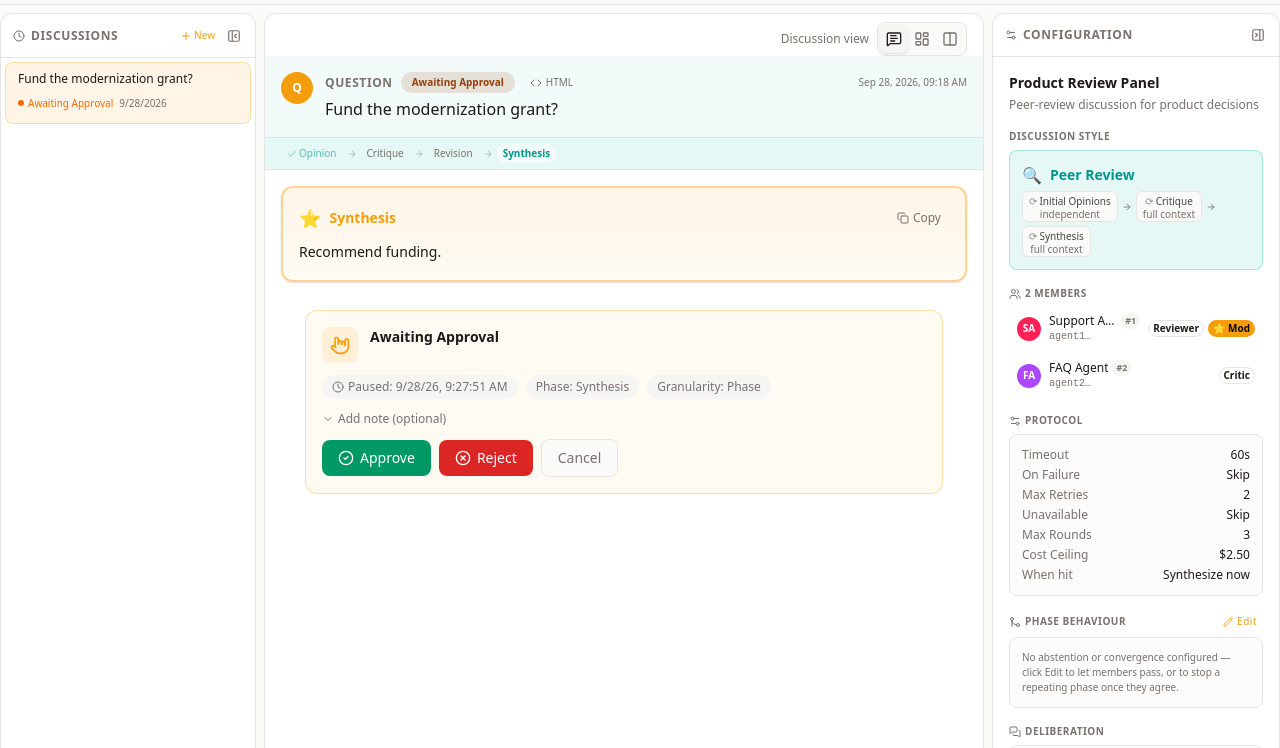
Test: GroupDetailPage — rejecting a paused discussion › lands back on the rejected discussion, with its Close action reachable
Click the button with test id "reject-button" at (486,458), box [439,440,533,476]
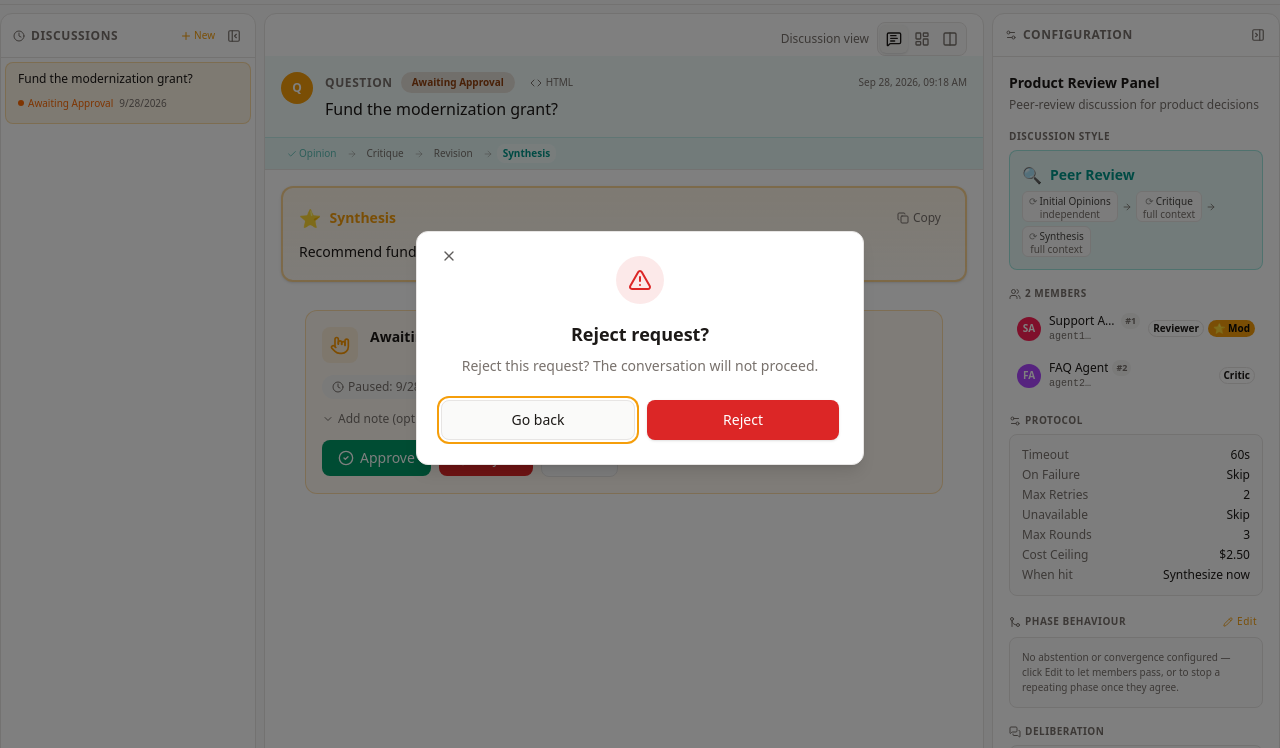
// No destructive HITL action fires on a single click.
Click the button with test id "alert-dialog-confirm" at (743,420), box [647,400,839,440]
(page scrolled)
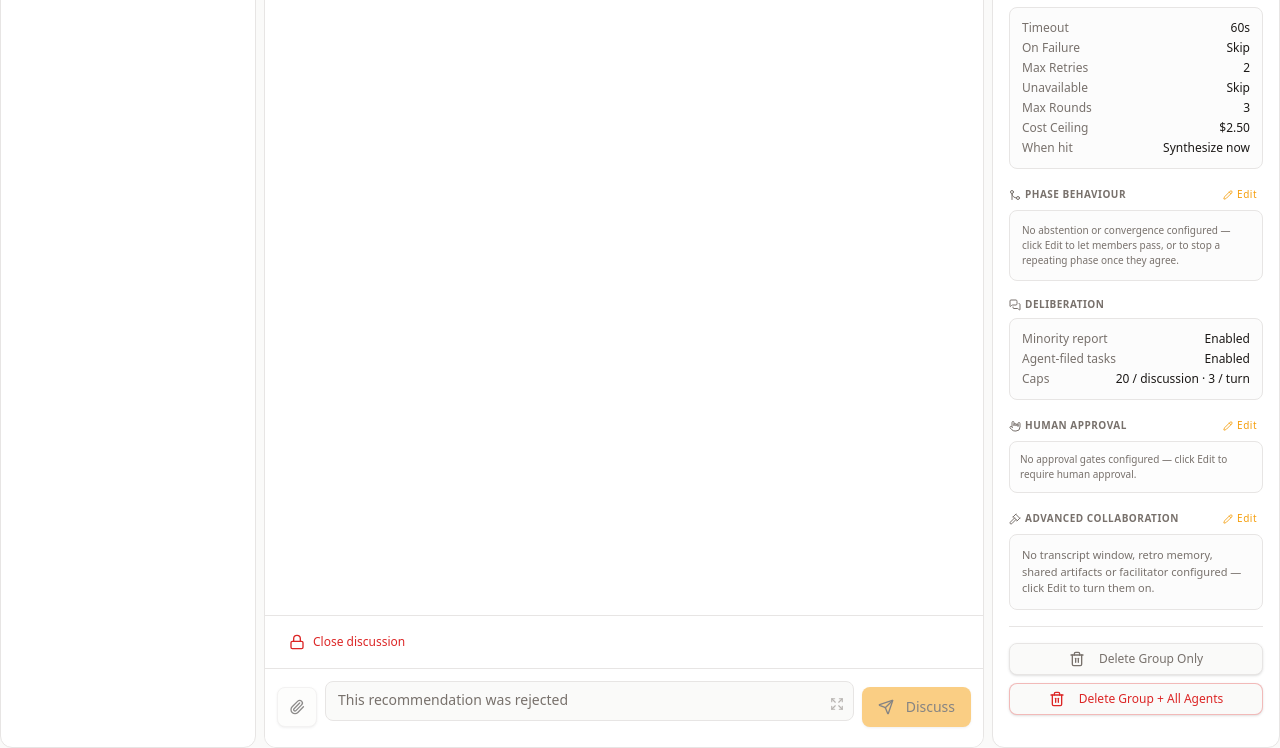
Now the button with test id "action-close" is shown, box [277,626,417,658]
